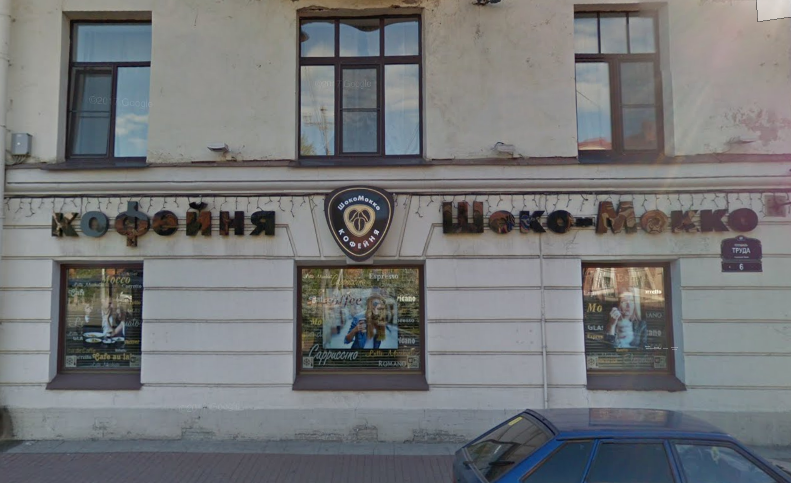signboard: (46, 177, 767, 255)
window: (293, 9, 422, 157), (294, 262, 429, 392), (571, 8, 669, 159), (581, 259, 682, 391), (64, 13, 151, 166), (53, 261, 141, 390)
